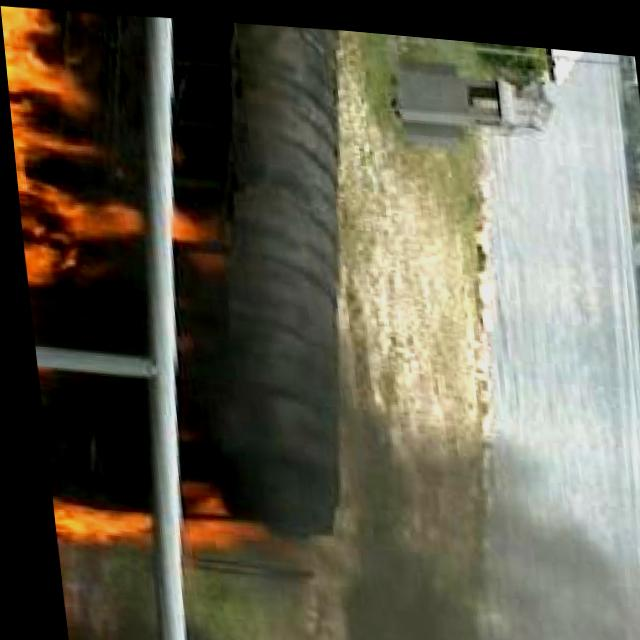helmet: (0, 4, 116, 299), (36, 445, 257, 569), (167, 184, 226, 276)
no_helmet: (303, 385, 638, 640)
